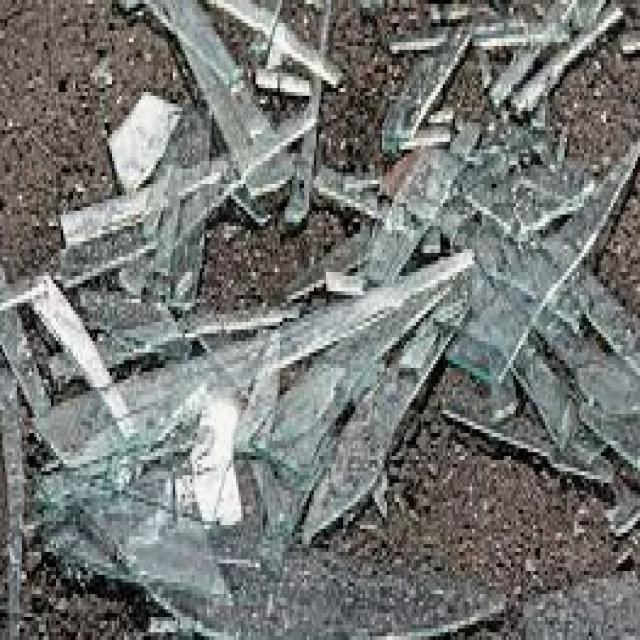PecahanKaca: (4, 0, 635, 632)
